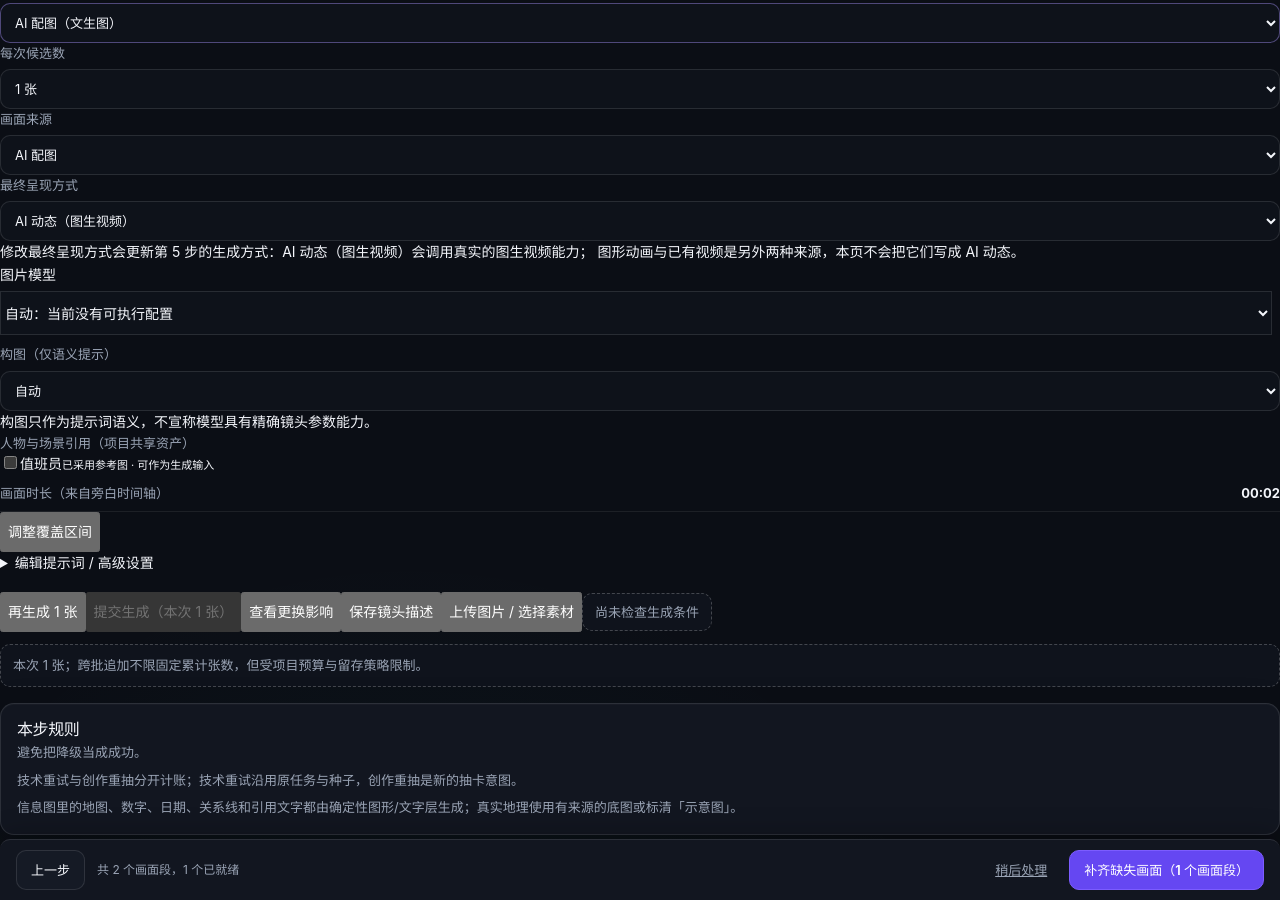
Test: step 4 storyboard generation › keeps a BLOCKED plan visible with the missing capability and refuses to submit
(page scrolled)
Click the button "再生成 1 张" at [43, 612], box [0, 592, 86, 632]
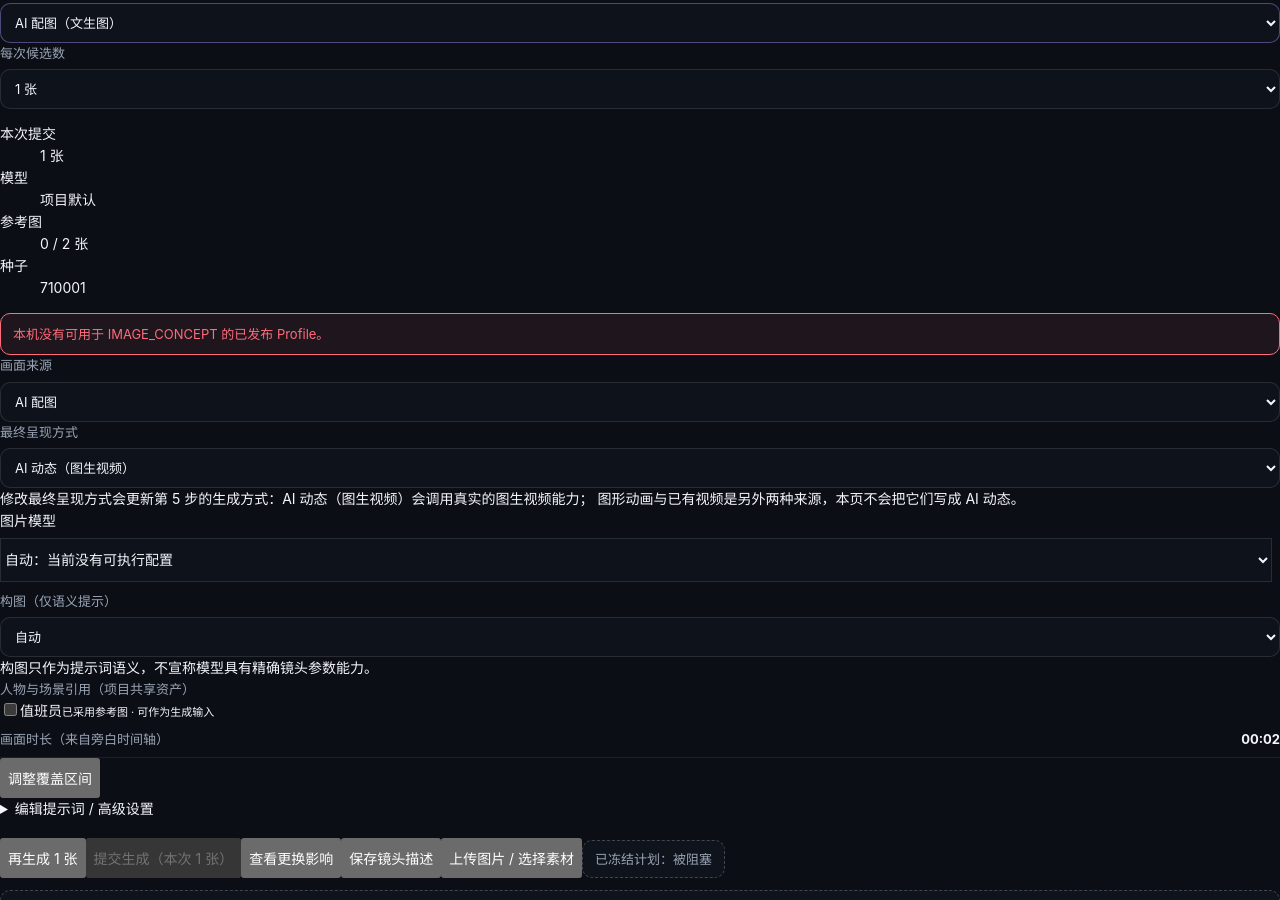
Expected: the button "提交生成（本次 1 张）" is disabled, [86, 838, 241, 878]
Now the message shows "IMAGE_CONCEPT", box [13, 326, 329, 342]
